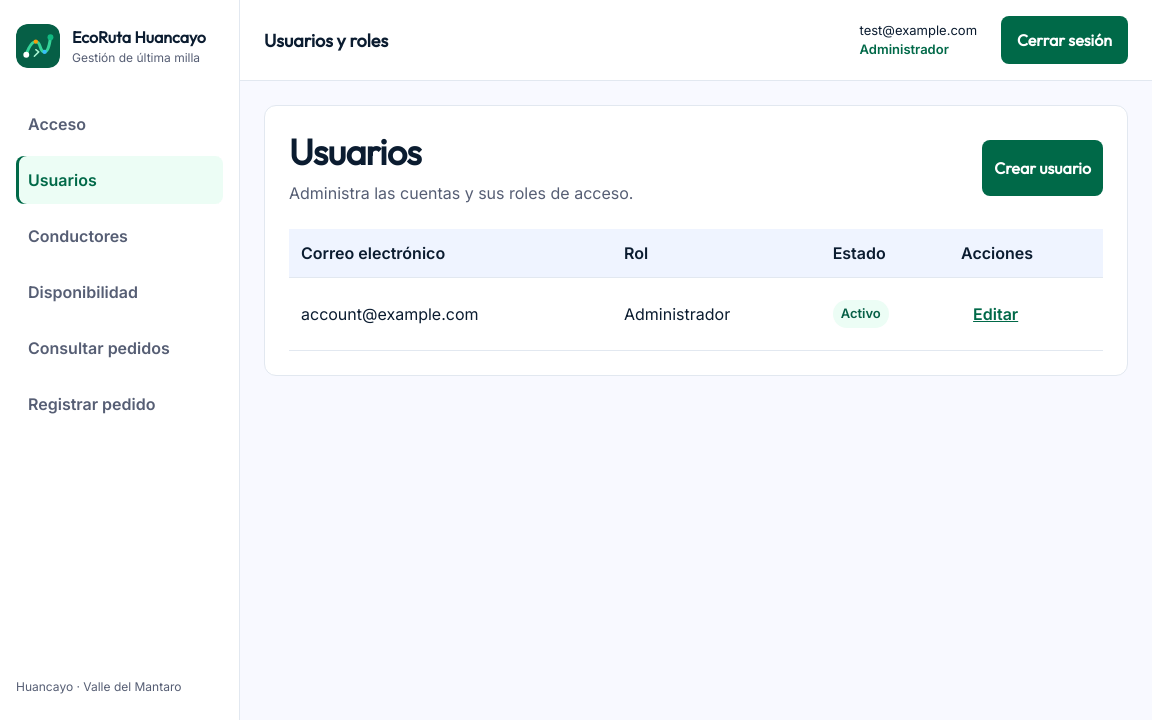
Scenario: US-003 interfaz › crea usuario normalizado y lo muestra en el listado
Check: the table is shown, box [289,229,1103,351]
Click the link "Crear usuario": x=1043, y=168 [982,140,1103,196]
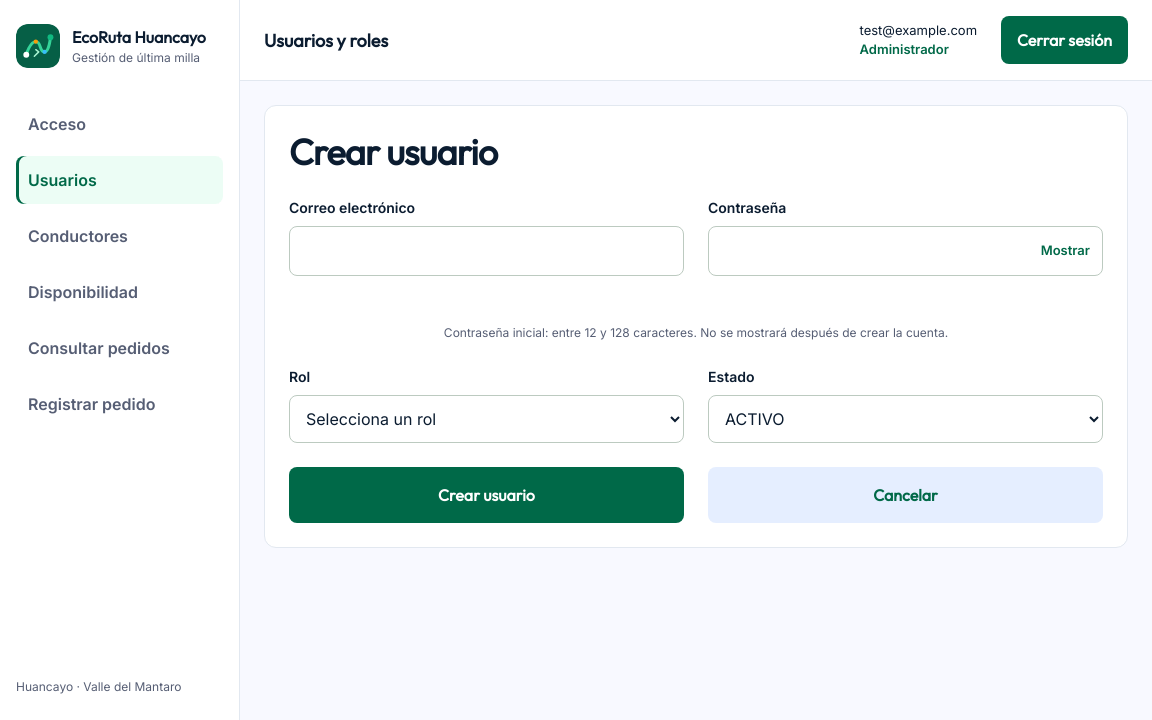
In the field labelled "Correo electrónico": x=486, y=251 [289,226,684,276], type "NEW@EXAMPLE.COM"
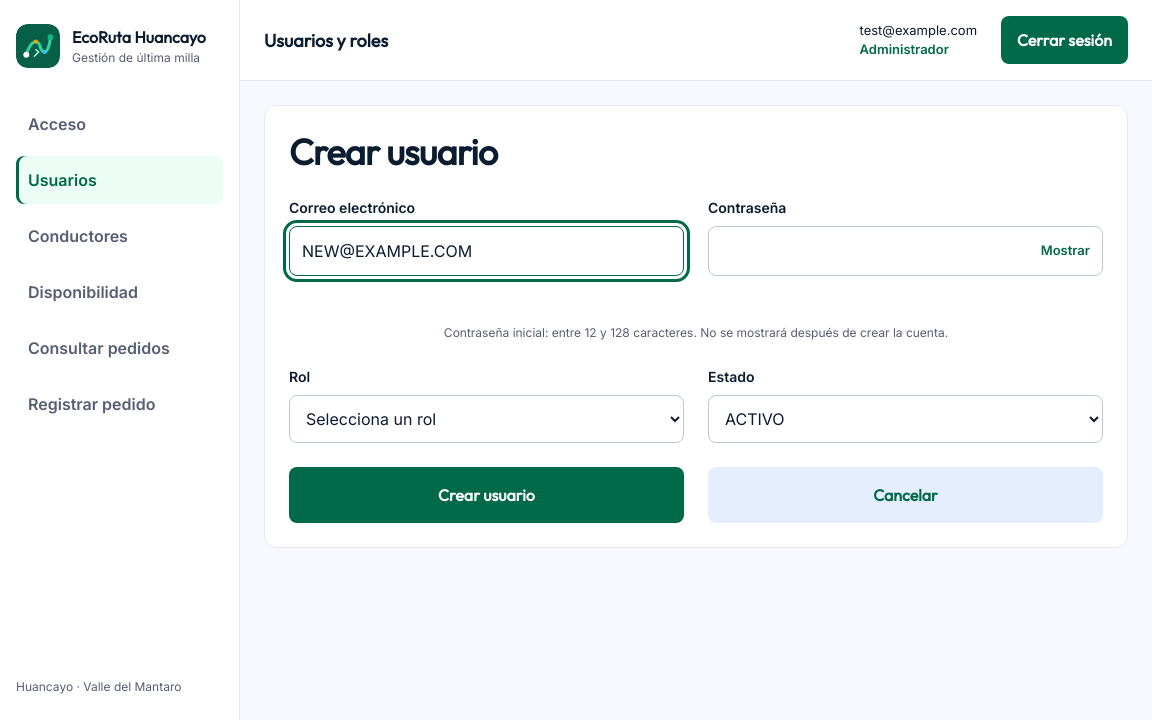
In the password field labelled "Contraseña": x=906, y=251 [708,226,1103,276], type "initial-password-123"
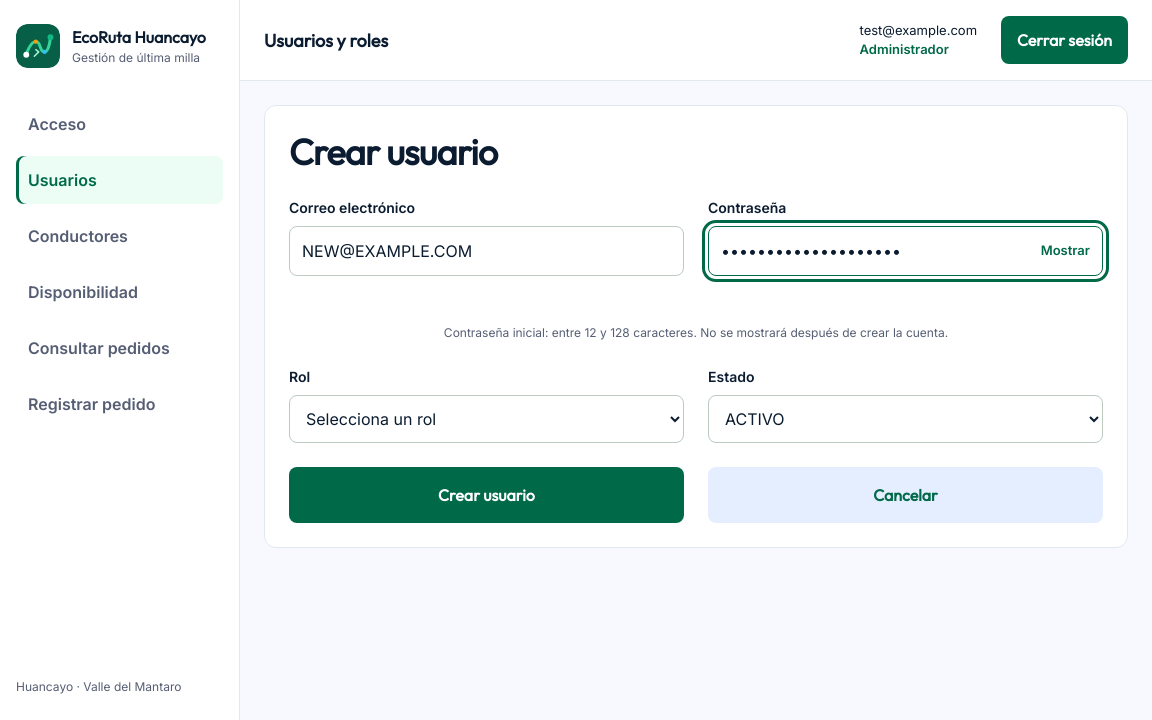
Select "Administrador" in the dropdown labelled "Rol": x=486, y=419 [289,395,684,443]
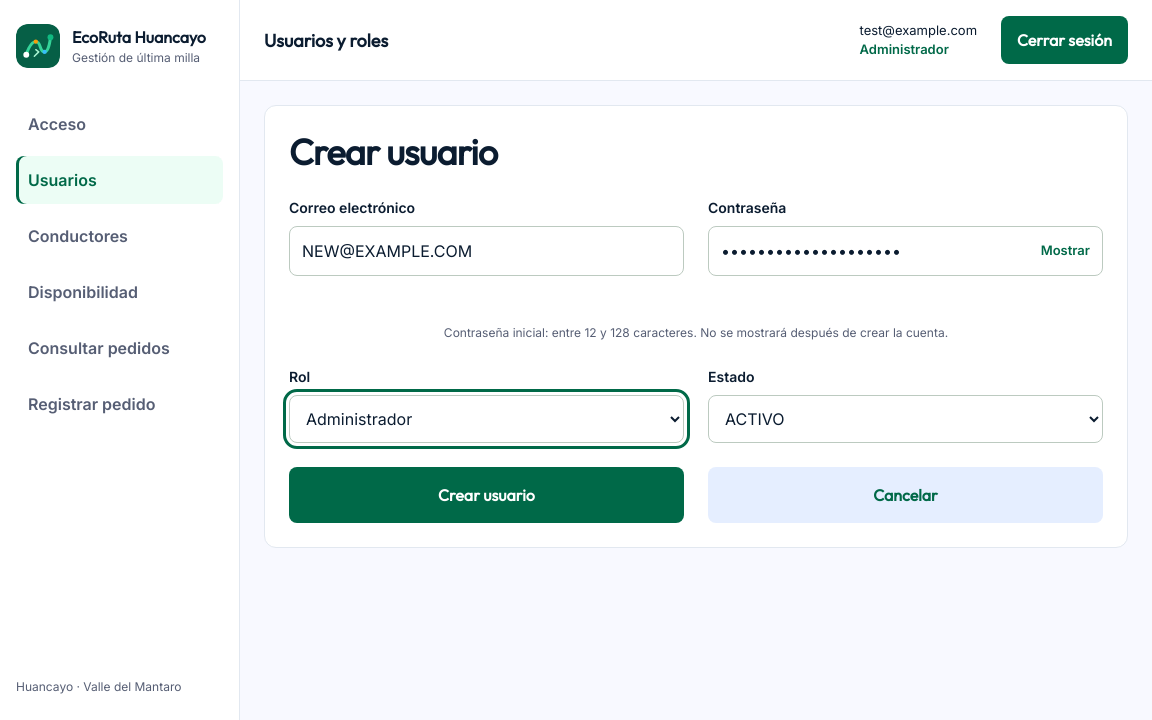
Select "INACTIVO" in the dropdown labelled "Estado": x=906, y=419 [708,395,1103,443]
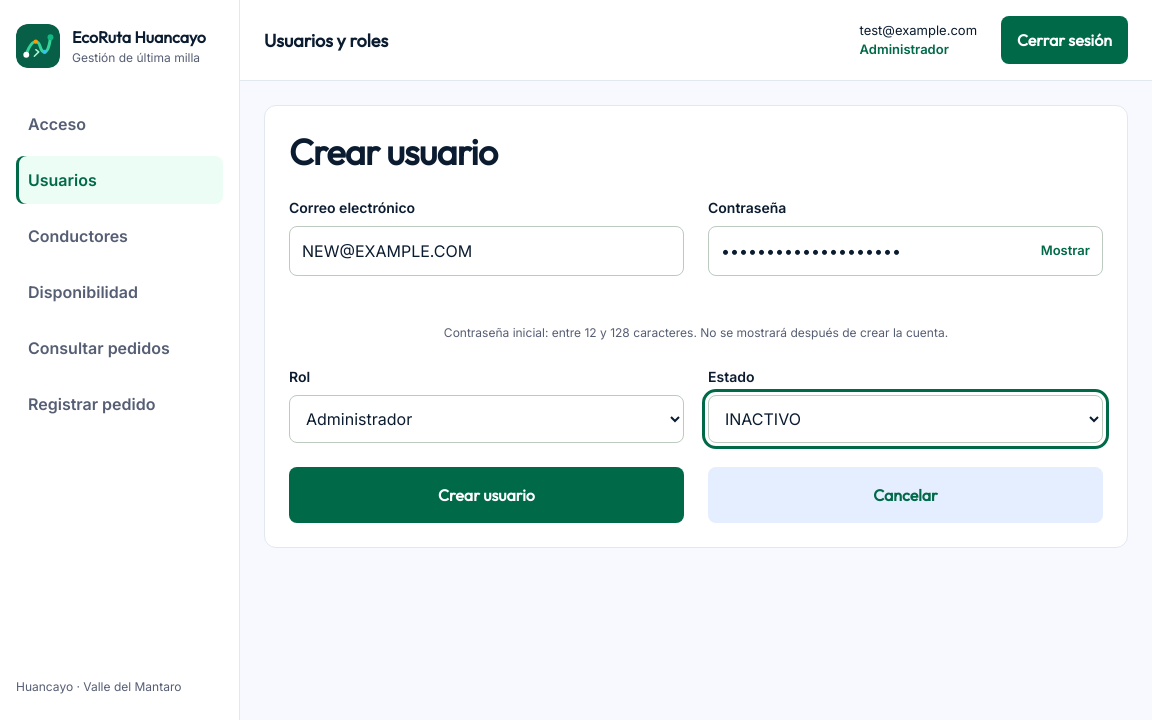
Click the button "Crear usuario": x=486, y=495 [289,467,684,523]
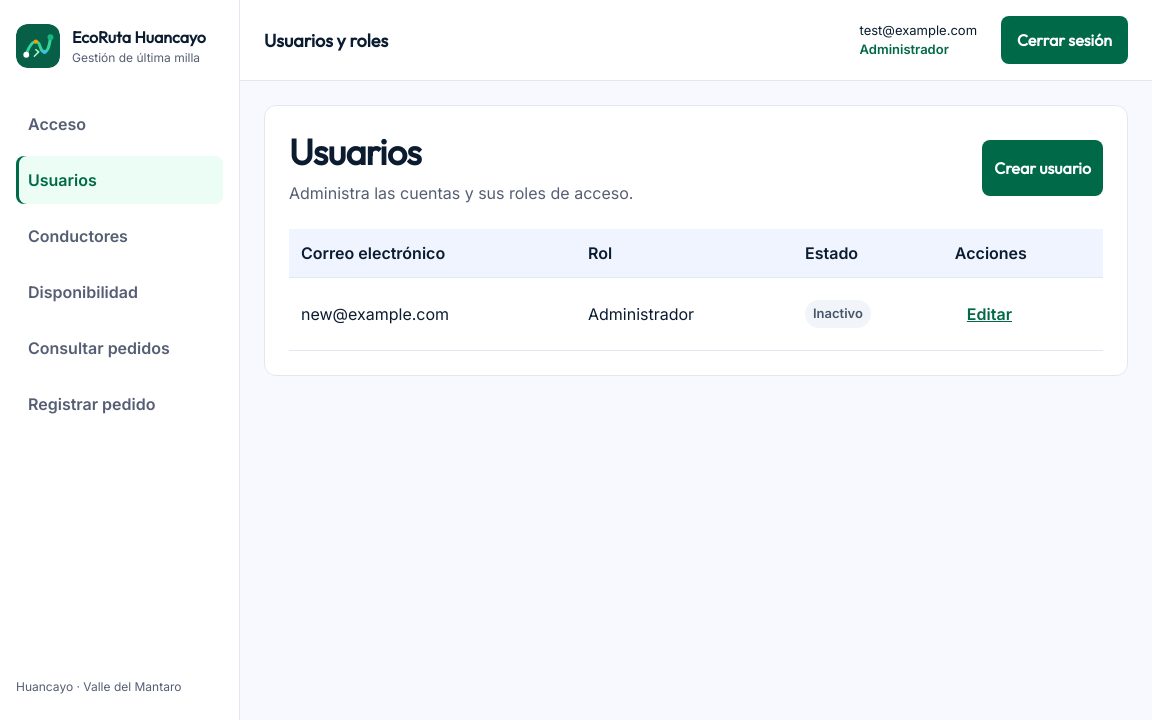
Check: the cell "new@example.com" is shown, box [289,278,576,351]
Check: the text "Inactivo" is shown, box [805,300,871,328]
